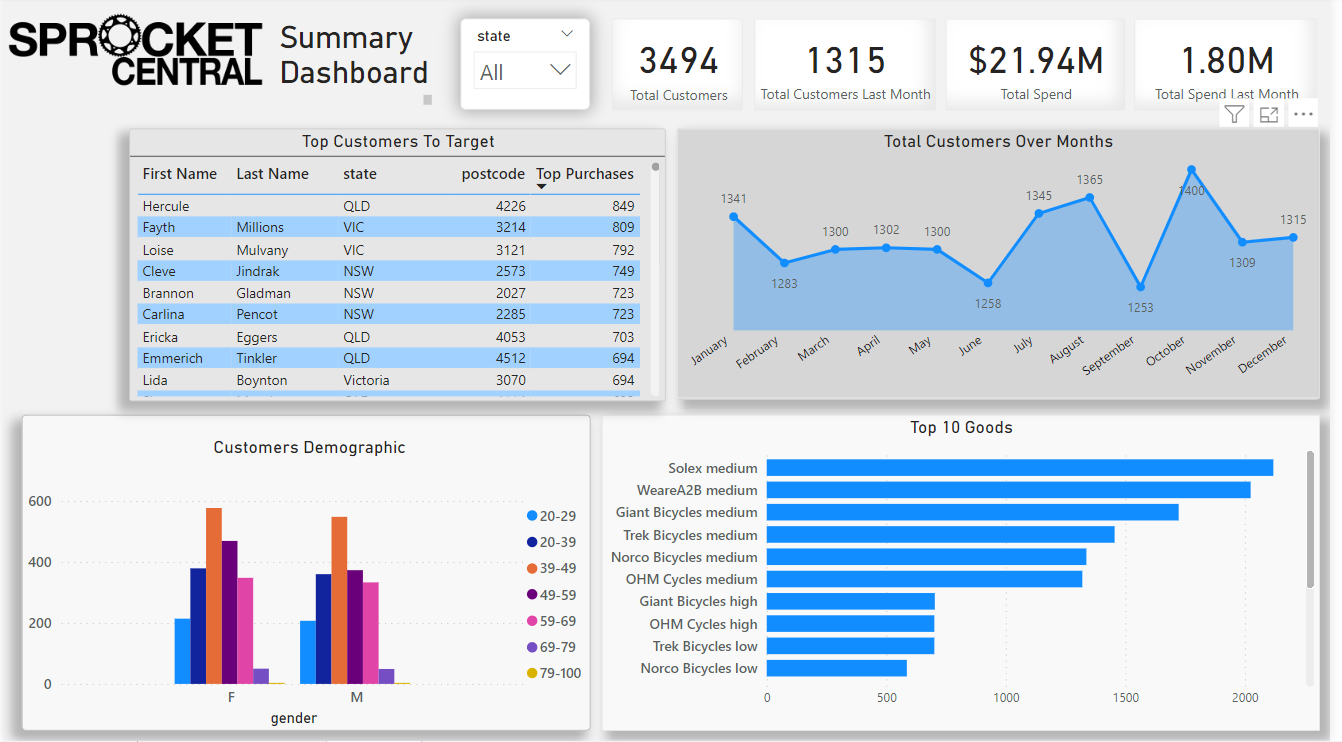

The dashboard page shown, as its layout file describes it:
{"tool":"powerbi","page":{"name":"Page 1","canvas":[1280,720],"ordinal":1},"visuals":[{"type":"card","fields":{"Values":["Transactions.customer_id"]},"box":[587,21.6,126.8,88.7],"z":0},{"type":"card","fields":{"Values":["Transactions.list_price"]},"box":[909,21.6,173.7,88.7],"z":1000},{"type":"card","fields":{"Values":["measure table.Last Month Sum"]},"box":[725.2,21.6,175,88.7],"z":2000},{"type":"card","fields":{"Values":["measure table.Total Spent Last Month"]},"box":[1091.6,21.6,177.5,88.7],"z":3000},{"type":"slicer","fields":{"Values":["CustomerAddress.state"]},"box":[441.8,21.7,124.7,88.1],"z":4000},{"type":"areaChart","title":"Total Customers Over Months","fields":{"Category":["Transactions.transaction_date.Variation.Date Hierarchy.Month"],"Y":["Transactions.customer_id"]},"box":[650.4,127.4,619.3,261.5],"z":5000},{"type":"clusteredBarChart","title":"Top 10 Goods","fields":{"Category":["Transactions.brand","Transactions.product_class","Transactions.product_line","Transactions.product_size"],"Y":["measure table.customers over brand class line"]},"box":[577.3,403.8,692.4,304.9],"z":6000},{"type":"image","box":[0,9.5,261.5,100.3],"z":7000},{"type":"clusteredColumnChart","title":"Customers Demographic","fields":{"Category":["CustomerDemographic.gender"],"Y":["CustomerDemographic.customer_id"],"Series":["CustomerDemographic.age bracket"]},"box":[17.6,403.8,548.8,304.9],"z":8000},{"type":"tableEx","title":"Top Customers To Target","fields":{"Values":["Merge1.CustomerDemographic.first_name","Merge1.CustomerDemographic.last_name","CustomerAddress.state","CustomerAddress.postcode","Merge1.product_id"]},"box":[122,127.4,517.6,262.9],"z":9000},{"type":"textbox","title":"Summary Dashboard","box":[261.5,21.7,157.2,88.1],"z":10000}]}

Visuals, with their boxes in screenshot pixels (x1, y1, x2, y2), scaled from the page's 1280x720 canvas onto the 1342x742 screenshot:
card - Transactions.customer_id: x1=615 y1=22 x2=748 y2=114
card - Transactions.list_price: x1=953 y1=22 x2=1135 y2=114
card - measure table.Last Month Sum: x1=760 y1=22 x2=944 y2=114
card - measure table.Total Spent Last Month: x1=1144 y1=22 x2=1331 y2=114
slicer - CustomerAddress.state: x1=463 y1=22 x2=594 y2=113
"Total Customers Over Months" areaChart: x1=682 y1=131 x2=1331 y2=401
"Top 10 Goods" clusteredBarChart: x1=605 y1=416 x2=1331 y2=730
image: x1=0 y1=10 x2=274 y2=113
"Customers Demographic" clusteredColumnChart: x1=18 y1=416 x2=594 y2=730
"Top Customers To Target" tableEx: x1=128 y1=131 x2=671 y2=402
"Summary Dashboard" textbox: x1=274 y1=22 x2=439 y2=113
